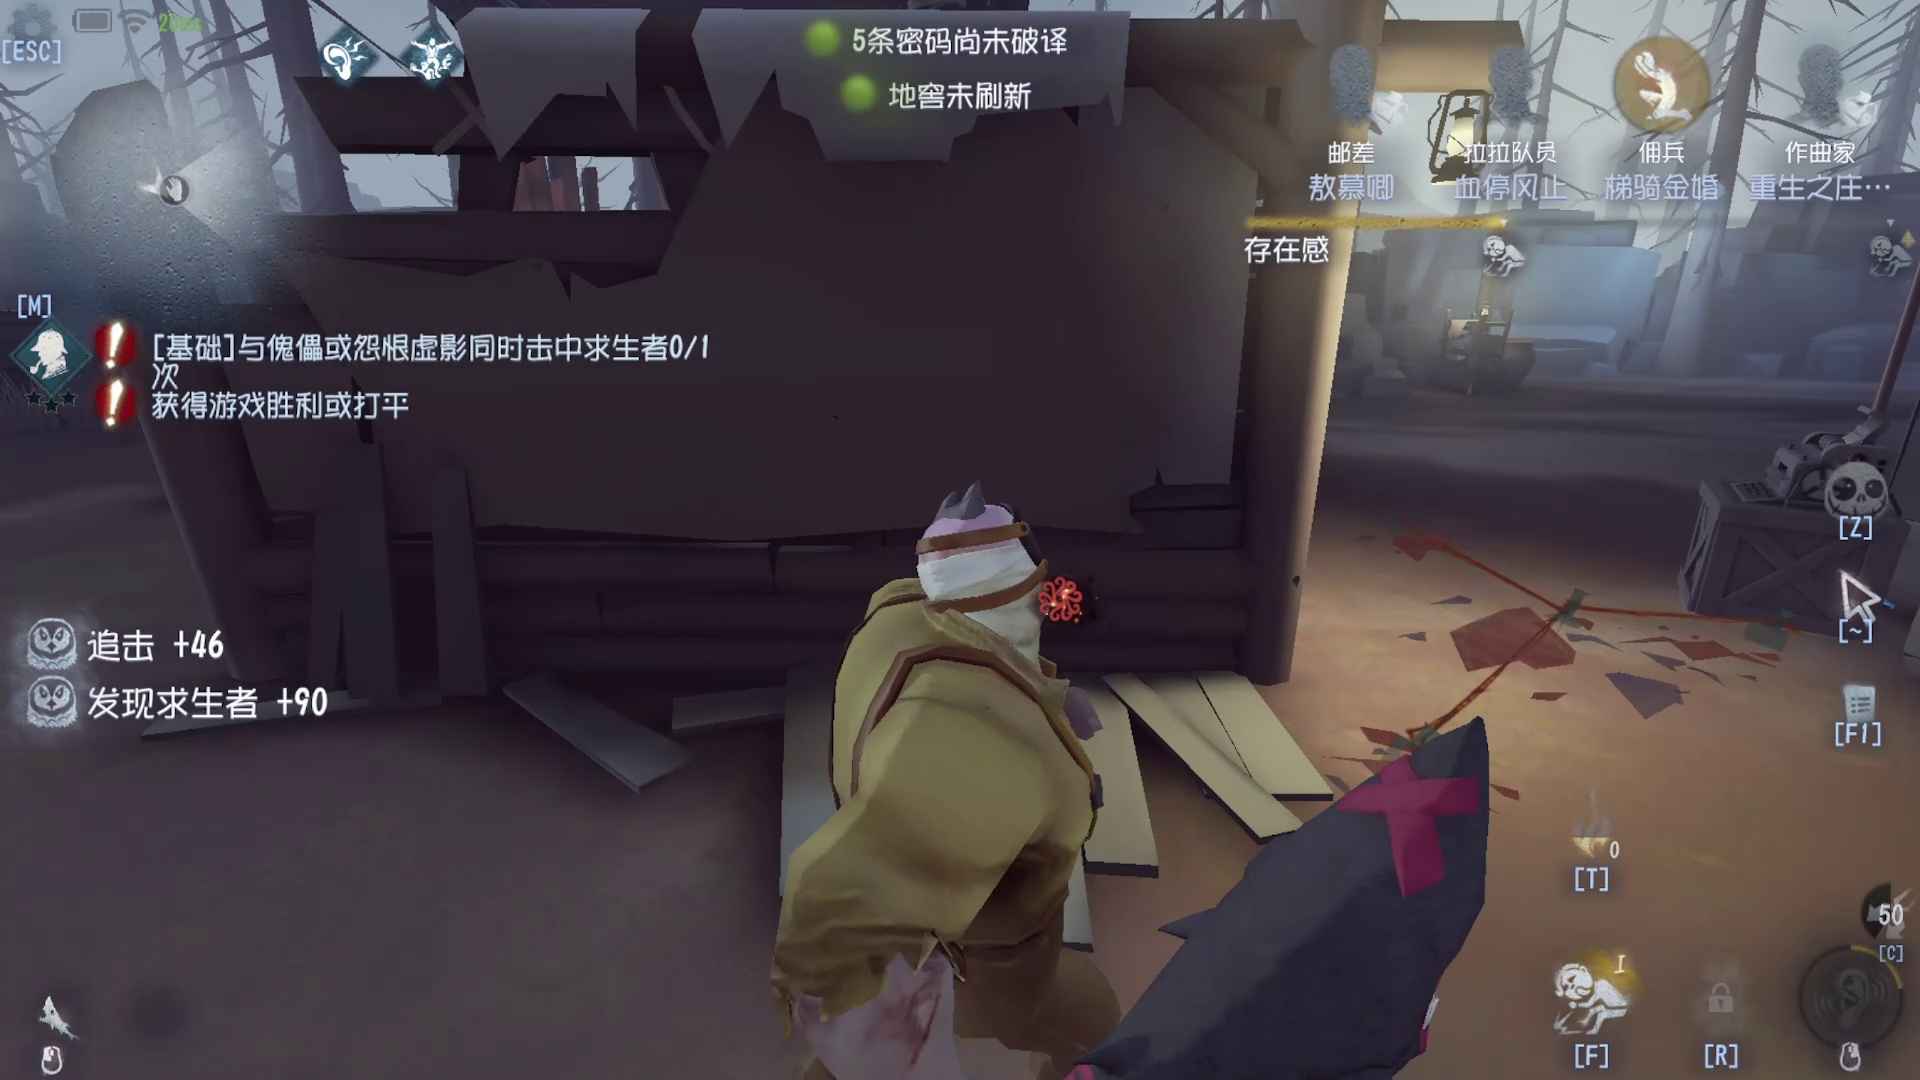密码机: (1633, 363, 1905, 661)
脚印: (1354, 483, 1720, 775)
